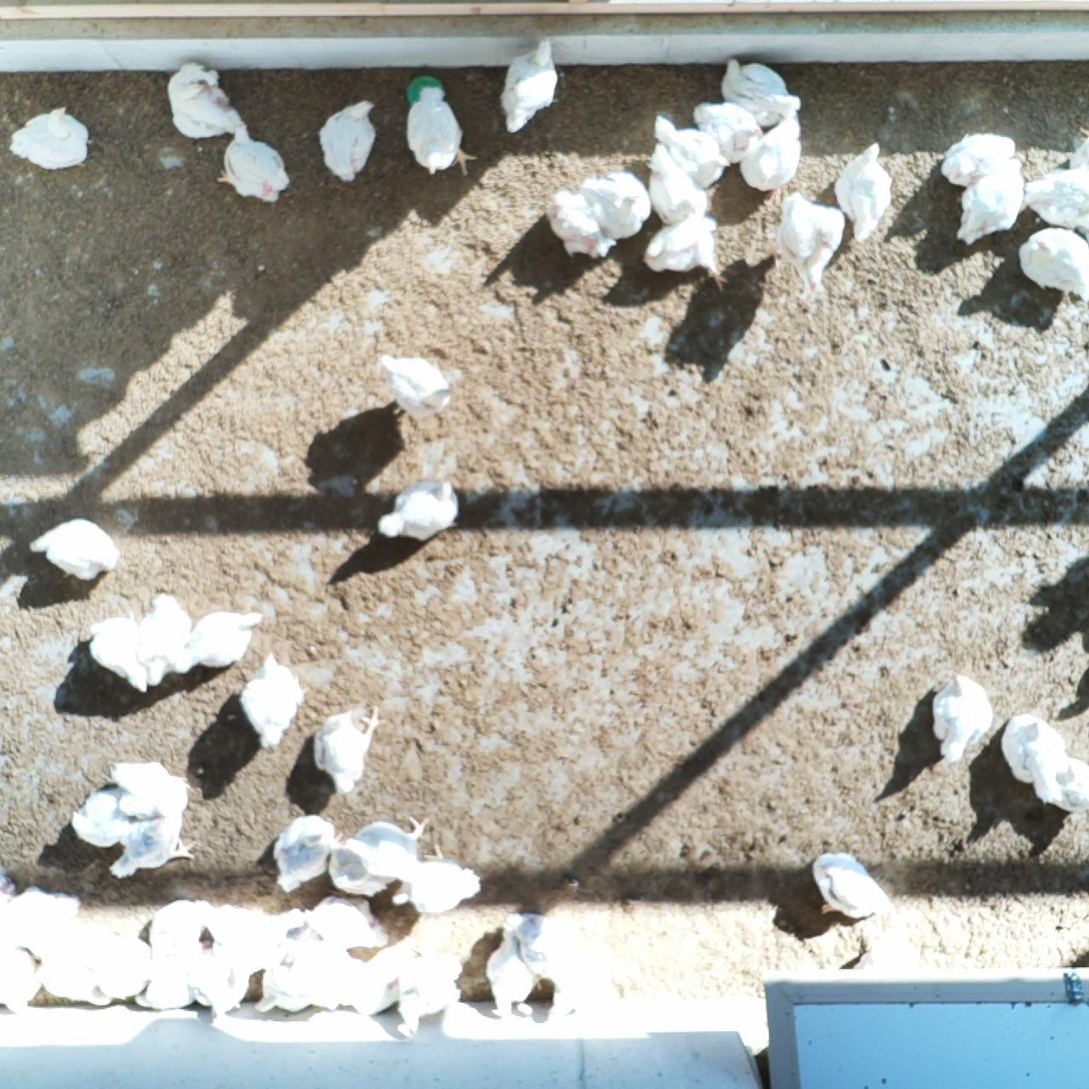chicken: (325, 810, 434, 901), (775, 189, 847, 296), (236, 651, 312, 752), (194, 897, 307, 963), (404, 80, 478, 180), (311, 698, 386, 796), (642, 214, 731, 296), (808, 850, 894, 931), (953, 155, 1027, 248), (105, 809, 198, 883), (482, 909, 544, 1019), (832, 139, 895, 247), (26, 515, 123, 585), (497, 34, 563, 136), (165, 59, 246, 142), (215, 122, 294, 205), (268, 808, 342, 896), (175, 607, 264, 680), (717, 58, 806, 130), (930, 669, 996, 766), (97, 758, 197, 822), (575, 167, 653, 247), (388, 945, 469, 1022), (649, 113, 731, 189), (351, 937, 423, 1019), (375, 346, 452, 422), (1015, 222, 1089, 301), (375, 478, 462, 545), (7, 104, 91, 173), (85, 614, 154, 697), (543, 187, 617, 264), (644, 140, 710, 226), (134, 592, 193, 687), (316, 97, 380, 183), (515, 911, 590, 984), (251, 942, 321, 1020), (998, 710, 1070, 785), (738, 117, 807, 194), (688, 97, 765, 165), (0, 880, 83, 943), (1023, 740, 1089, 817), (304, 894, 391, 952), (938, 129, 1021, 188), (1021, 163, 1089, 231), (67, 782, 133, 851), (38, 944, 110, 1007), (188, 954, 253, 1017), (134, 954, 200, 1011), (152, 895, 210, 955), (545, 973, 608, 1025), (0, 943, 45, 1014), (54, 919, 121, 966), (304, 944, 353, 1008), (98, 954, 154, 1002), (100, 1064, 102, 1065)
